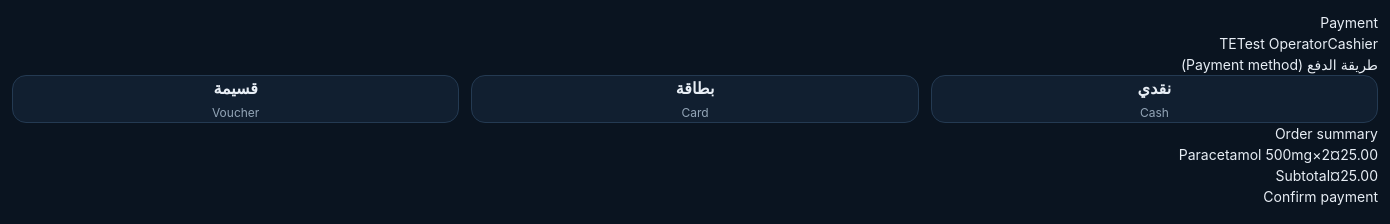
PaymentSurface — settled completion (P0 dead-end fix) › shows a "New sale" button after confirm settles (invariant 14: never stuck)
Click the button with test id "payment-surface-confirm" at (1321, 196), box [1263,186,1378,207]
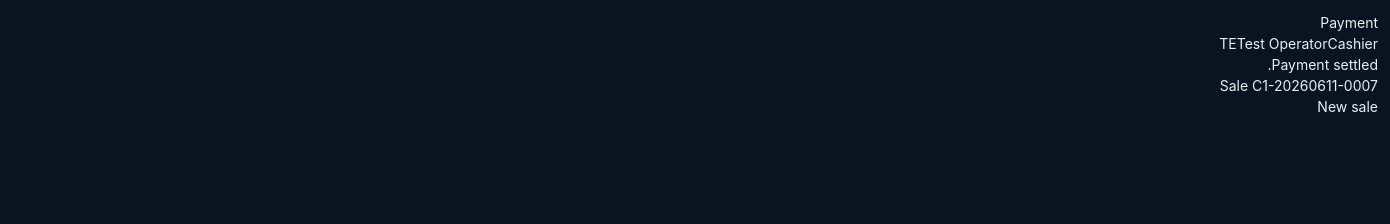
expect the message "Payment settled." is shown: met, box [1267,56,1378,73]
expect the button with test id "payment-surface-new-sale" is shown: met, box [1317,96,1378,117]
